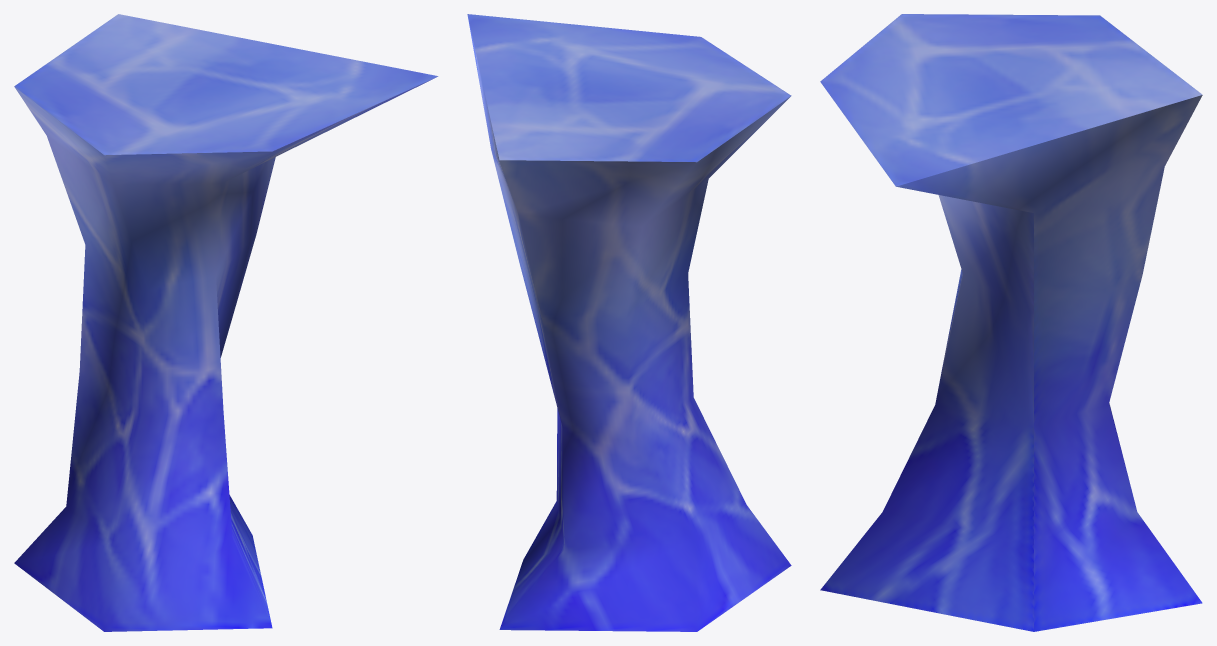
Rendered from ice_prop_2.FBX.
3 renders of one model, left to right at view 1: azimuth 30°, elevation 25°; view 2: azimuth 150°, elevation 25°; view 3: azimuth 270°, elevation 25°, orthographic. The views are drawn at different scales.
Visible parts, largest first — view 1: Object032; view 2: Object032; view 3: Object032.
Part boxes in pixels (x1,y1,x2,y2): Object032: (14, 14, 438, 631); Object032: (467, 14, 791, 631); Object032: (820, 14, 1202, 631).
Bounding box in the file's own units: 75.11 × 70.33 × 103.
